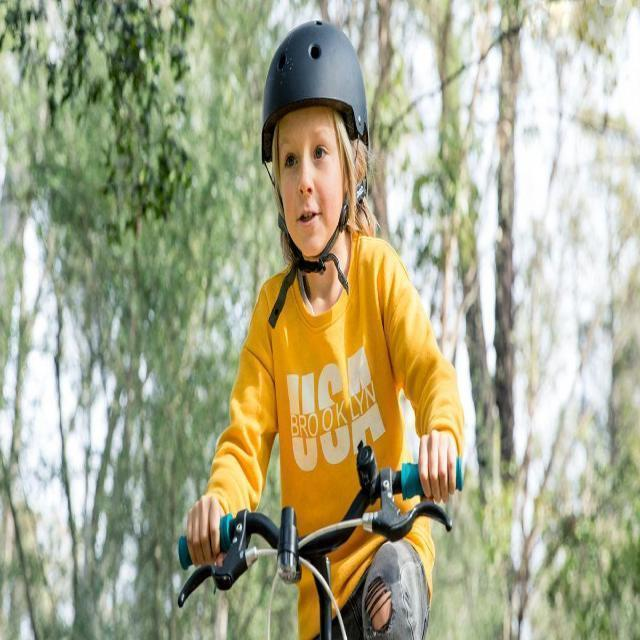helmet: (260, 18, 370, 274)
